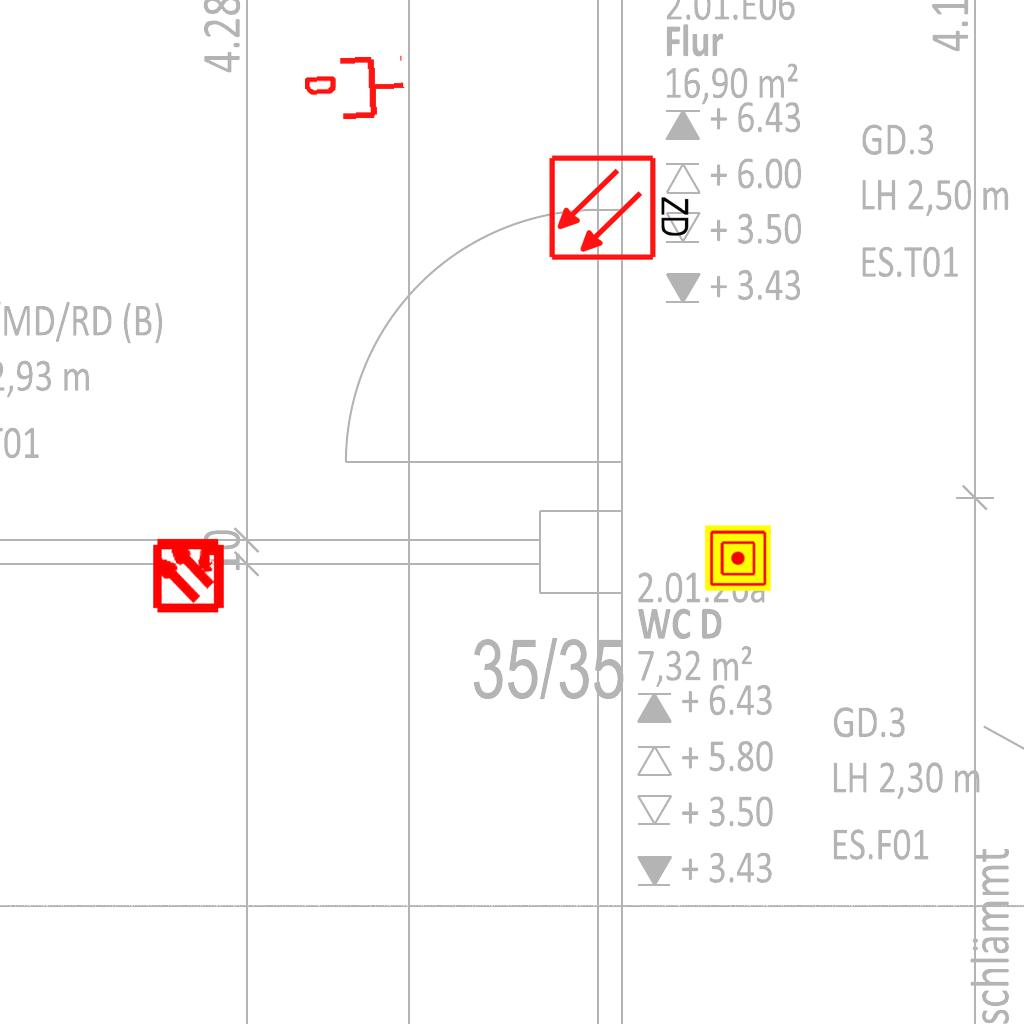Datenanschluss_einfach: (303, 50, 408, 126)
NAM-Nichtautomatischer_Melder: (705, 525, 771, 591)
OT_Multisensormelder_(Kombination_RMO_WMD): (132, 517, 245, 630)
ZD_Melder_in_Zwischendecke_mit_Revisionsoeffnung_mind_40_x_40_cm: (547, 149, 696, 263)
